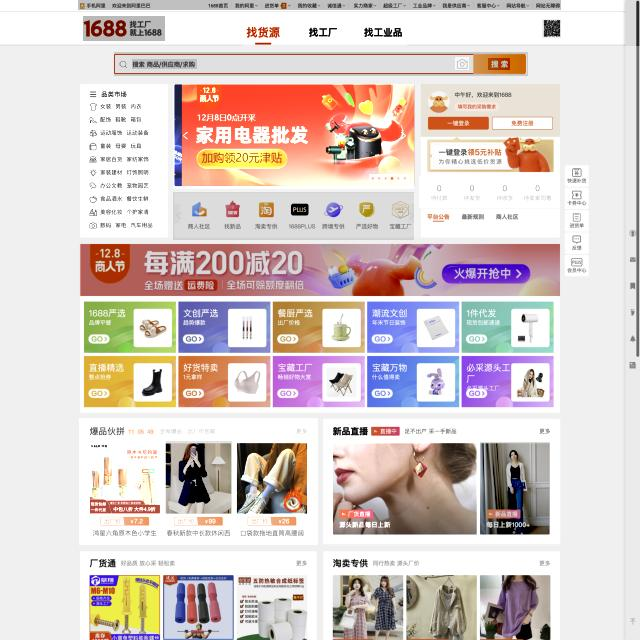CheckBox: (473, 54, 527, 74)
CheckedTextView: (114, 52, 528, 76)
EditText: (542, 19, 561, 38)
ImageView: (81, 244, 560, 296)
QR code: (420, 176, 560, 208)
Spinner: (323, 418, 561, 546), (79, 418, 318, 545)
Switch: (174, 84, 414, 187), (173, 192, 414, 240)
bag: (0, 0, 640, 46)
card: (173, 84, 414, 189)
carousel: (455, 57, 469, 70), (120, 60, 128, 69)
copy: (332, 441, 477, 534), (480, 442, 550, 534), (88, 443, 160, 514), (237, 442, 307, 514), (166, 441, 232, 514)
data feed: (488, 58, 510, 70)
date picker: (83, 16, 165, 41)
decoration: (88, 88, 156, 236), (78, 0, 561, 10), (243, 20, 407, 46)
dropdown: (369, 174, 410, 182)
footer: (132, 59, 197, 69)
